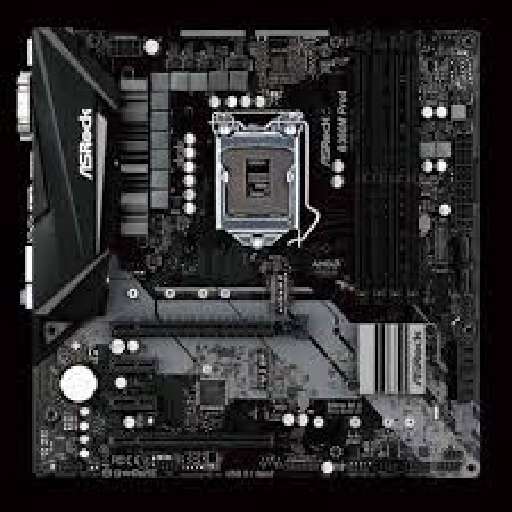CPU: (202, 103, 321, 263)
GPU: (104, 307, 317, 344), (105, 421, 291, 458)
MOTHERBOARD: (17, 16, 487, 482)
RAM: (338, 28, 437, 303)
SSD: (261, 257, 299, 322), (242, 344, 285, 396)
